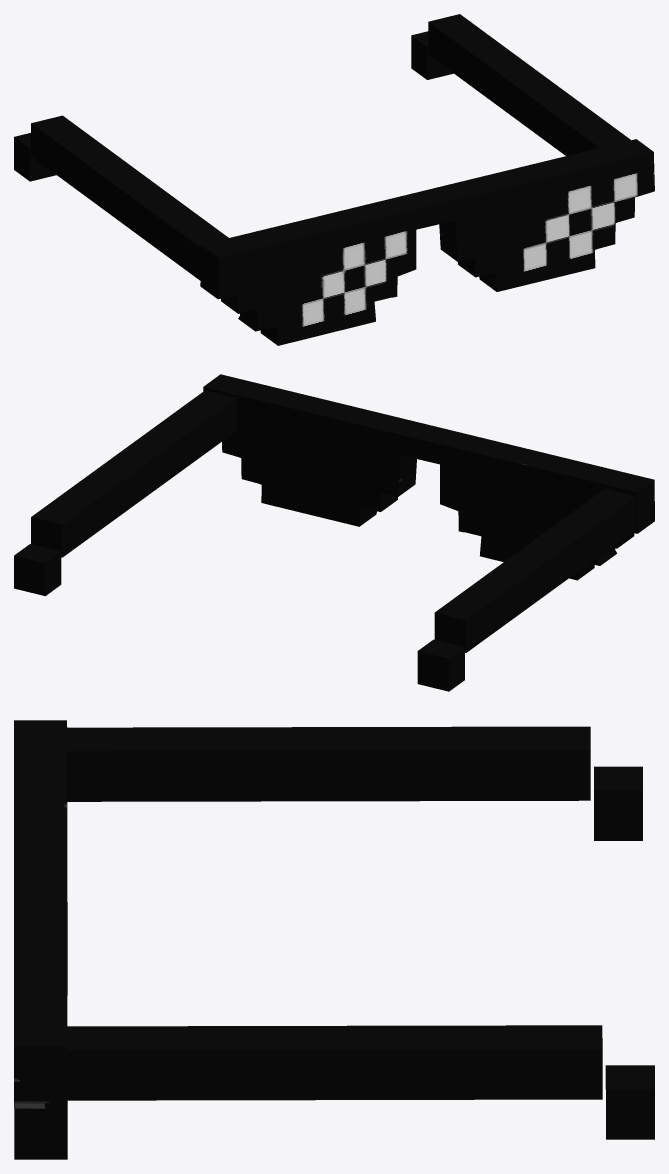
File: glasses-model-Ckw_g7tH.glb
3 renders of one model, top to bottom at view 1: azimuth 30°, elevation 25°; view 2: azimuth 150°, elevation 25°; view 3: azimuth 270°, elevation 25°, orthographic. The views are drawn at different scales.
Parts seen in each view (by area): view 1: Object_5, node_id84_5, node_id94_7; view 2: Object_5, node_id94_7, node_id84_5; view 3: node_id94_7, node_id84_5, Object_5.
Boxes of the visible parts, x1=… form: Object_5: x1=200, y1=139, x2=654, y2=345; node_id84_5: x1=14, y1=115, x2=228, y2=280; node_id94_7: x1=411, y1=14, x2=630, y2=155; Object_5: x1=203, y1=374, x2=654, y2=580; node_id94_7: x1=14, y1=390, x2=236, y2=596; node_id84_5: x1=417, y1=489, x2=636, y2=691; node_id94_7: x1=67, y1=1025, x2=654, y2=1139; node_id84_5: x1=67, y1=726, x2=642, y2=840; Object_5: x1=14, y1=720, x2=67, y2=1159.
Size of the model in its own units: 0.7026 by 0.1584 by 0.5822.
3 materials, 3 textured.
